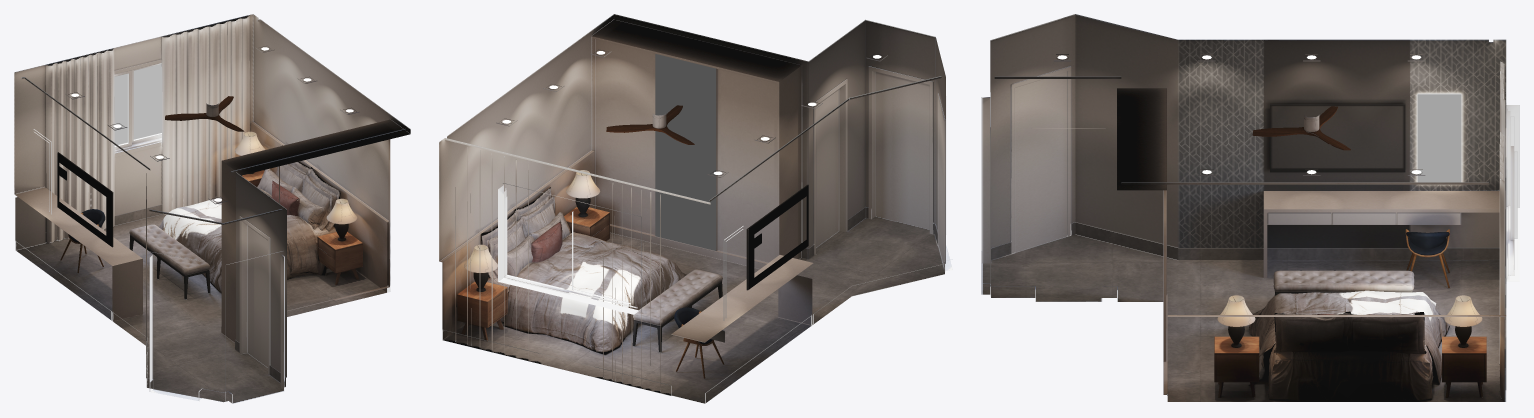
File: guilherme_-_suite.glb
3 views of the same model, side by side, from view 1: azimuth 30°, elevation 25°; view 2: azimuth 150°, elevation 25°; view 3: azimuth 270°, elevation 25° (orthographic). The views are drawn at different scales.
Visible parts, largest first — view 1: Line001_Material #2146804728_0, Box006, Object028_Material 51651561_0; view 2: Line001_Material #2146804728_0, Box006, Object029_Material #32_0; view 3: Line001_Material #2146804728_0, Box006, Object030_Material #59_0.
Part boxes in pixels (x1,y1,x2,y2): Line001_Material #2146804728_0: [14, 14, 410, 403]; Box006: [159, 145, 340, 292]; Object028_Material 51651561_0: [114, 64, 161, 145]; Line001_Material #2146804728_0: [439, 14, 952, 403]; Box006: [480, 187, 686, 354]; Object029_Material #32_0: [655, 54, 716, 250]; Line001_Material #2146804728_0: [981, 14, 1519, 401]; Box006: [1249, 290, 1449, 400]; Object030_Material #59_0: [1417, 94, 1461, 182].
Size of the model in its own units: 4.63 by 2.79 by 6.16.
7 materials, 2 textured.
